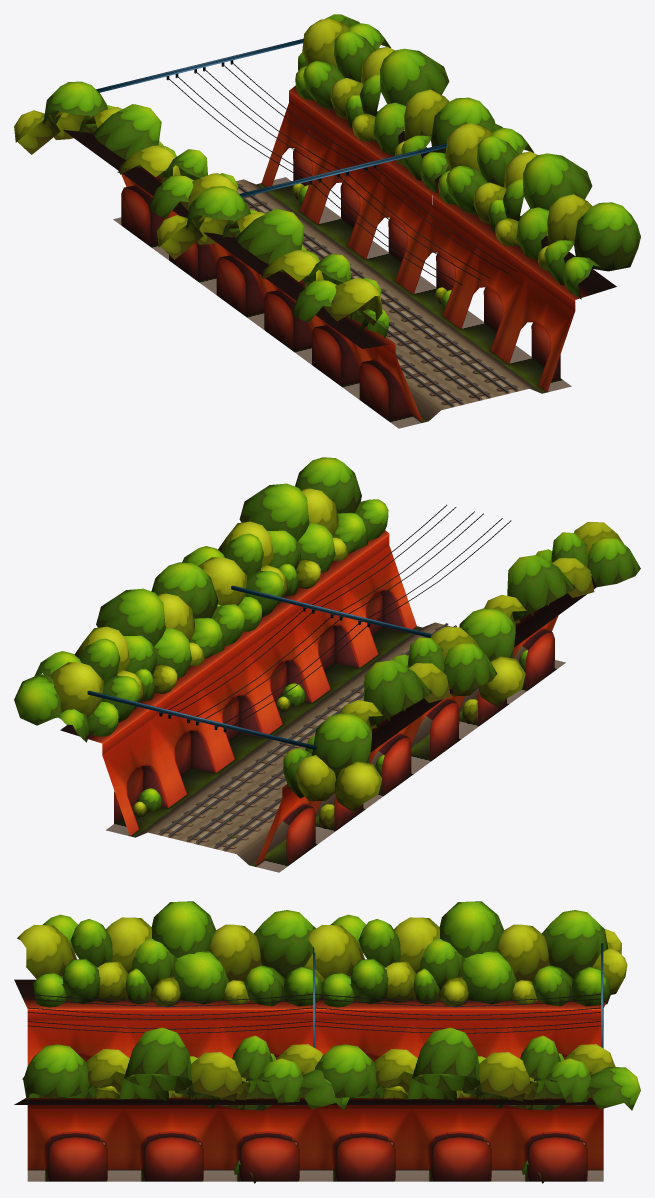
File: road2.glb
3 views of the same model, one above another, from view 1: azimuth 30°, elevation 25°; view 2: azimuth 150°, elevation 25°; view 3: azimuth 270°, elevation 25° (orthographic).
Parts seen in each view (by area): view 1: Object_2; view 2: Object_2; view 3: Object_2.
Part boxes in pixels (bbox=[...]): Object_2: bbox=[14, 14, 640, 428]; Object_2: bbox=[14, 457, 640, 872]; Object_2: bbox=[14, 901, 640, 1183].
Size of the model in its own units: 260 by 124 by 392.
1 material, 1 textured.
